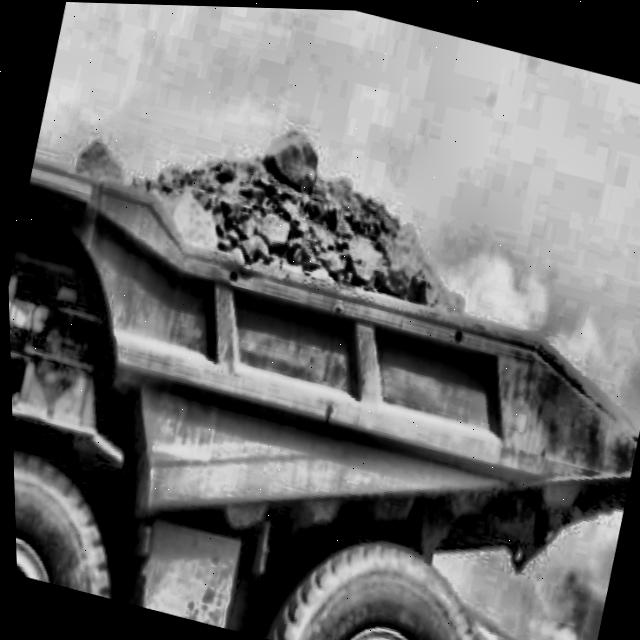dump_truck: (1, 29, 640, 640)
